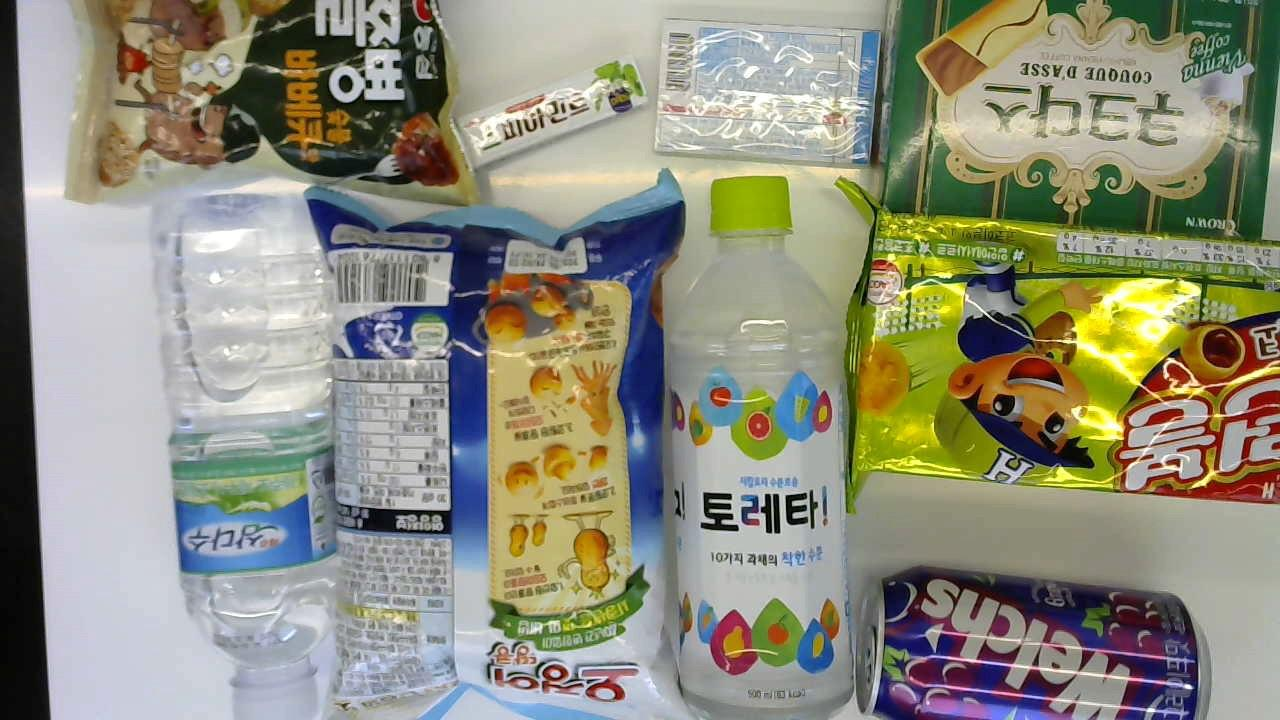ID_gum: (653, 12, 877, 167)
couque_coffee: (872, 0, 1279, 247)
homerunball: (842, 179, 1280, 508)
jjolbyung_ori: (60, 0, 477, 202)
samdasu: (154, 186, 360, 719)
spearmint: (446, 49, 652, 174)
squid_peanut: (329, 166, 688, 715)
toreta: (666, 180, 864, 720)
welchs: (851, 561, 1209, 720)
